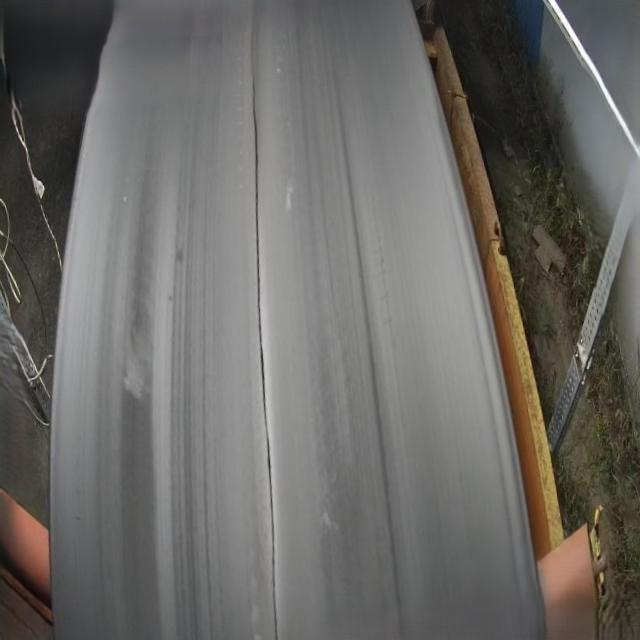Tear: (244, 0, 291, 640)
